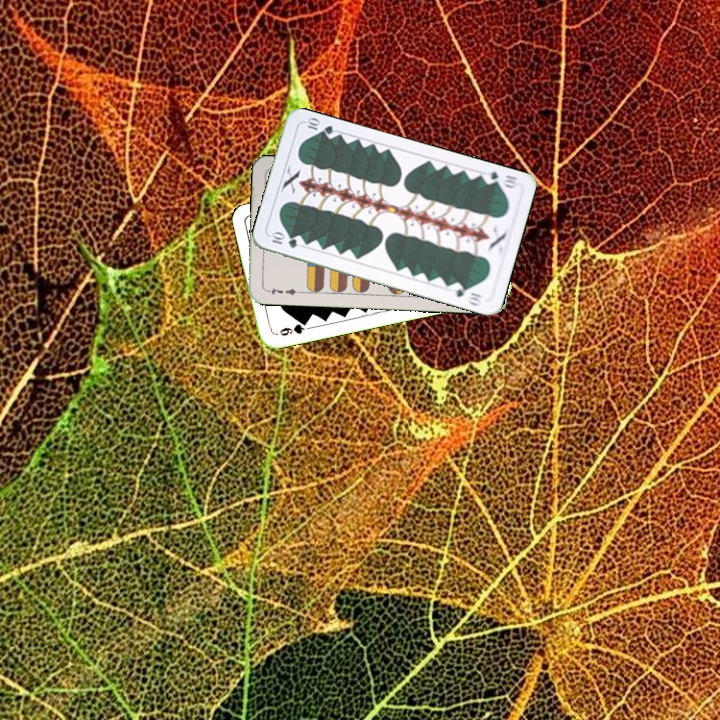E7: (262, 283, 303, 298)
G10: (479, 167, 521, 191), (267, 229, 301, 251)
G9: (275, 318, 310, 338)
